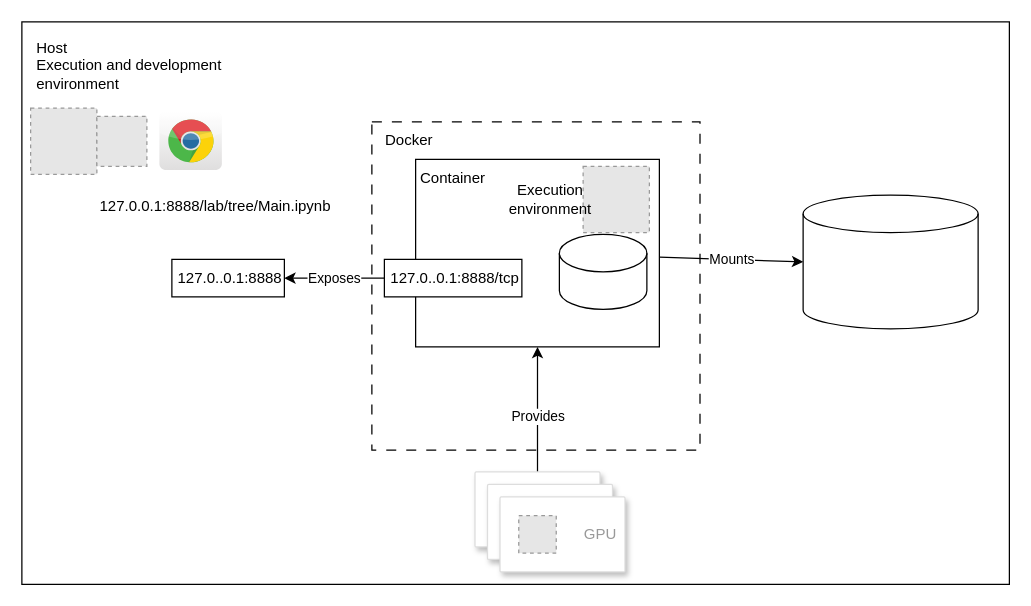
This 1031x606 diagram has some shape labels left out. Grey dashed boxes stand in for pictures. Here are the shapes that lost their labels. From the top down, the centre of each, then its label:
At pixel 602 271: "/run".
At pixel 890 261: "<cloned directory>: /Main.ipynb /data/master_data.cvs /data/model.pt".
